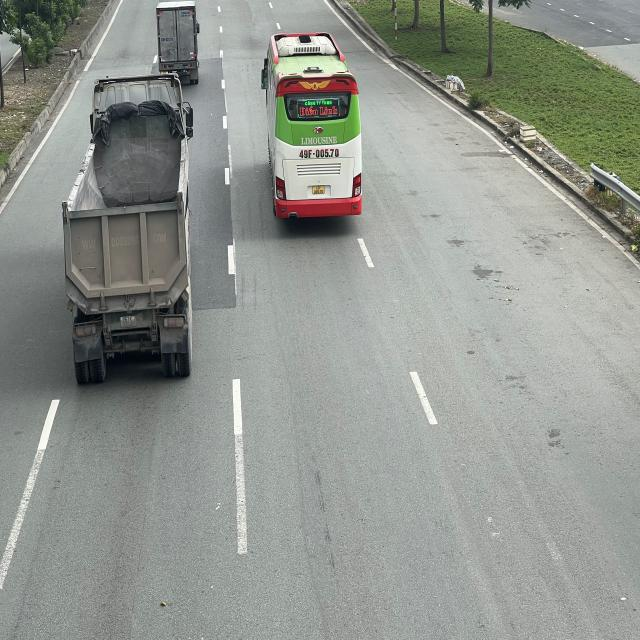coach: (260, 31, 362, 219)
container: (62, 70, 194, 380)
truck: (154, 0, 199, 80)
